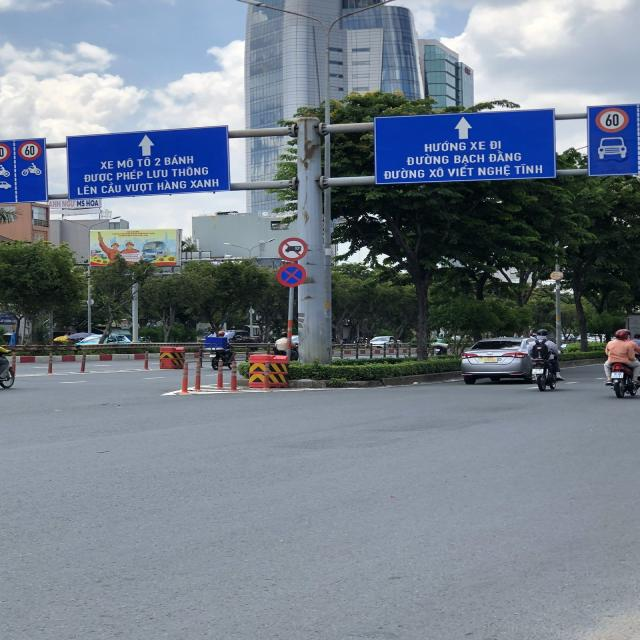Bien bao cam dung xe va do xe: (274, 261, 309, 287)
Bien bao cam xe oto tai: (272, 232, 312, 260)
Bien bao toc do toi da cho phep: (590, 104, 630, 133), (14, 138, 45, 160)
